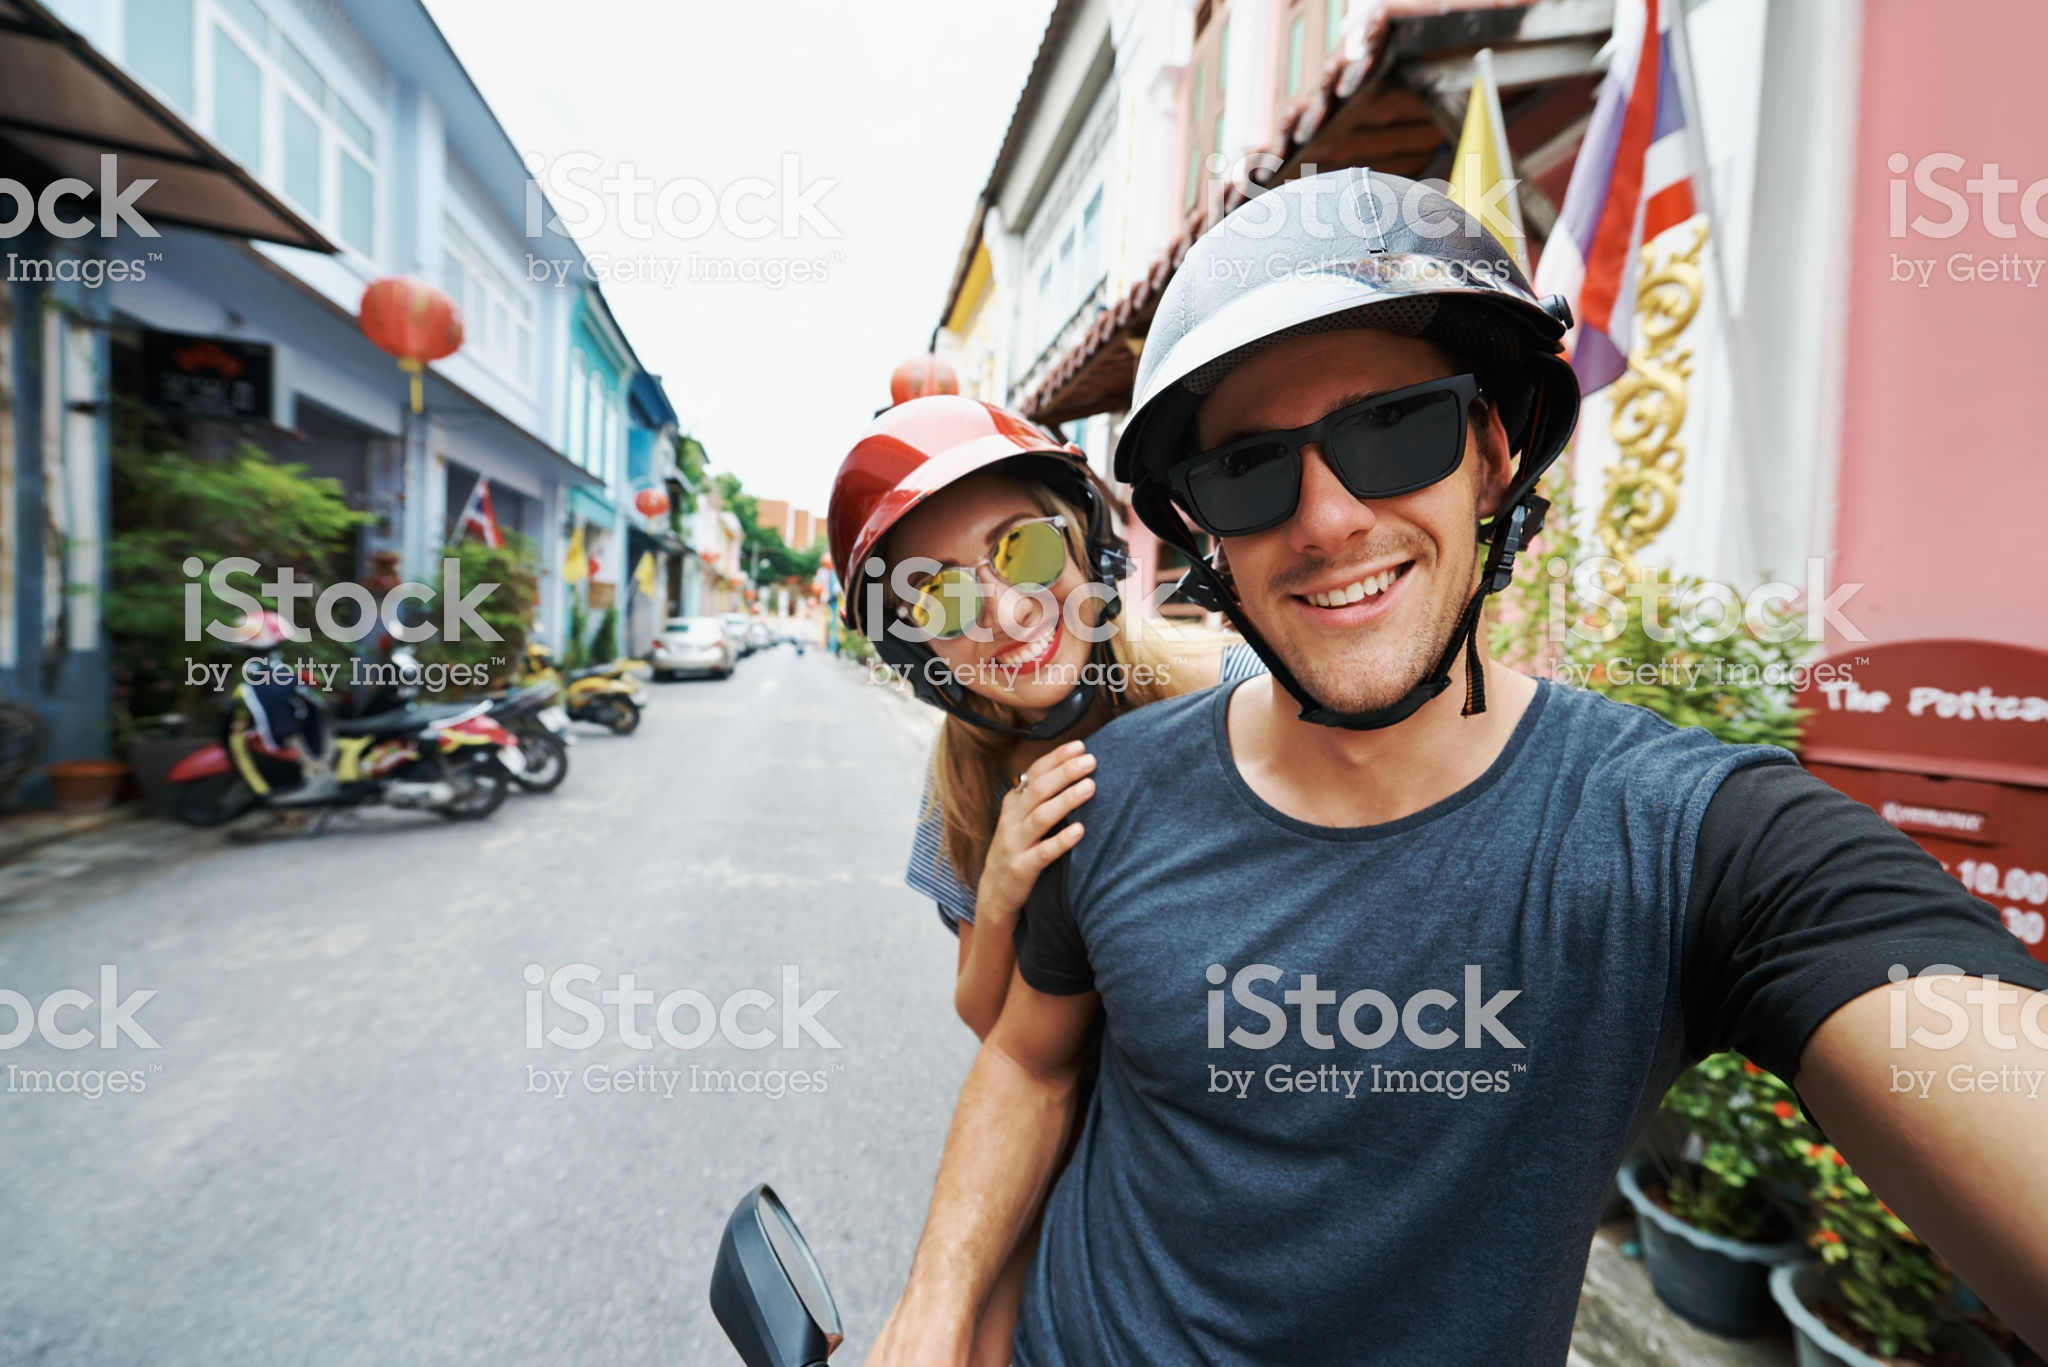helmet: (1132, 174, 1627, 449), (773, 381, 1132, 584)
